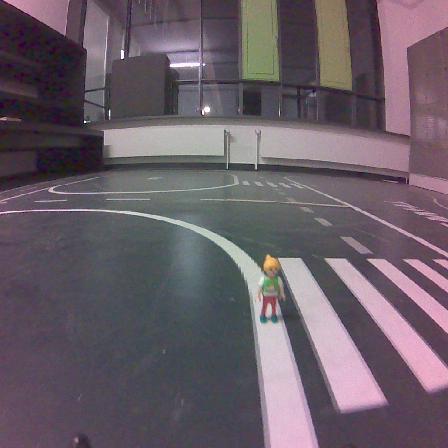CHILD: (257, 255, 284, 322)
